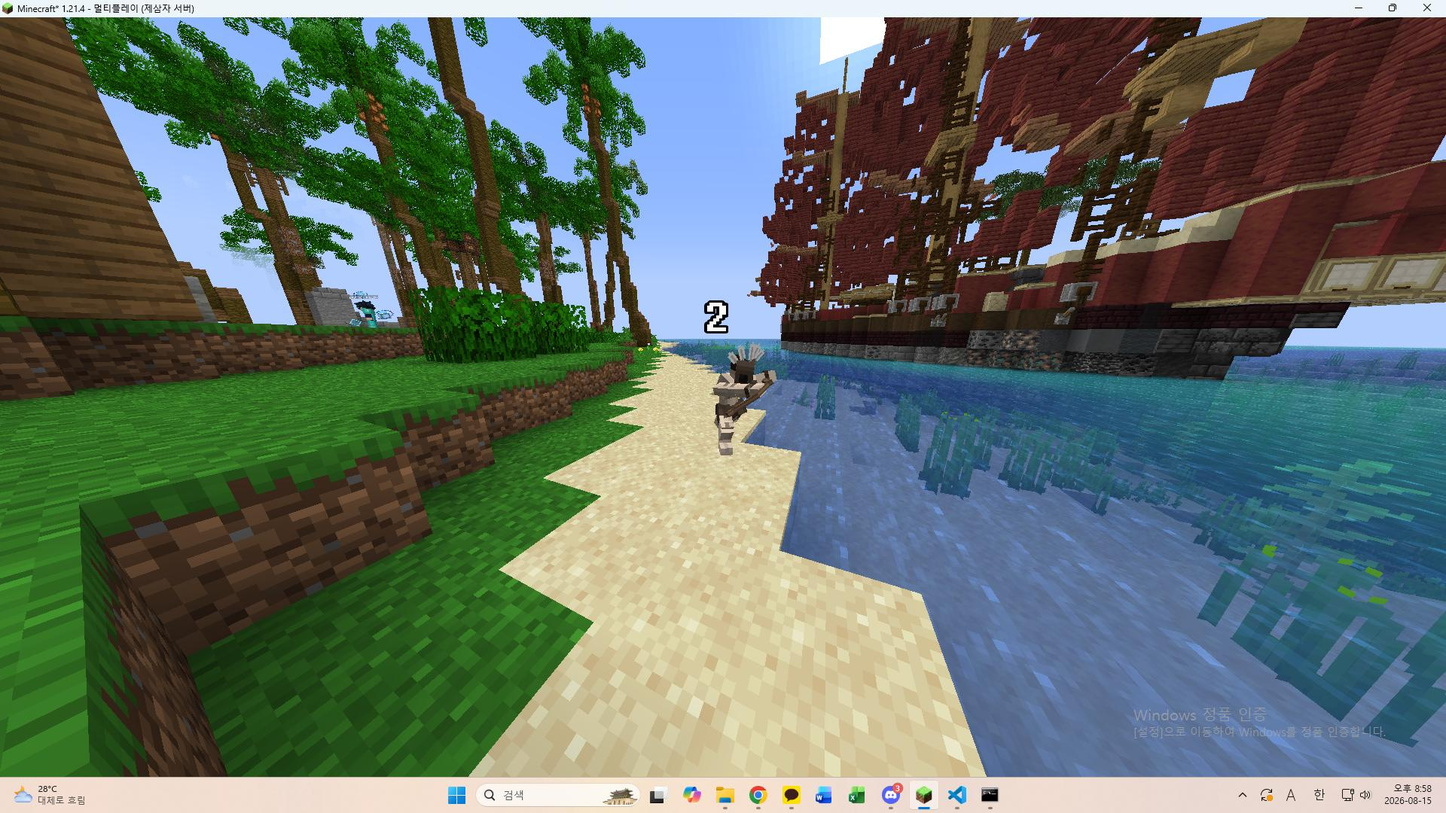bow_indian: (695, 334, 807, 471)
